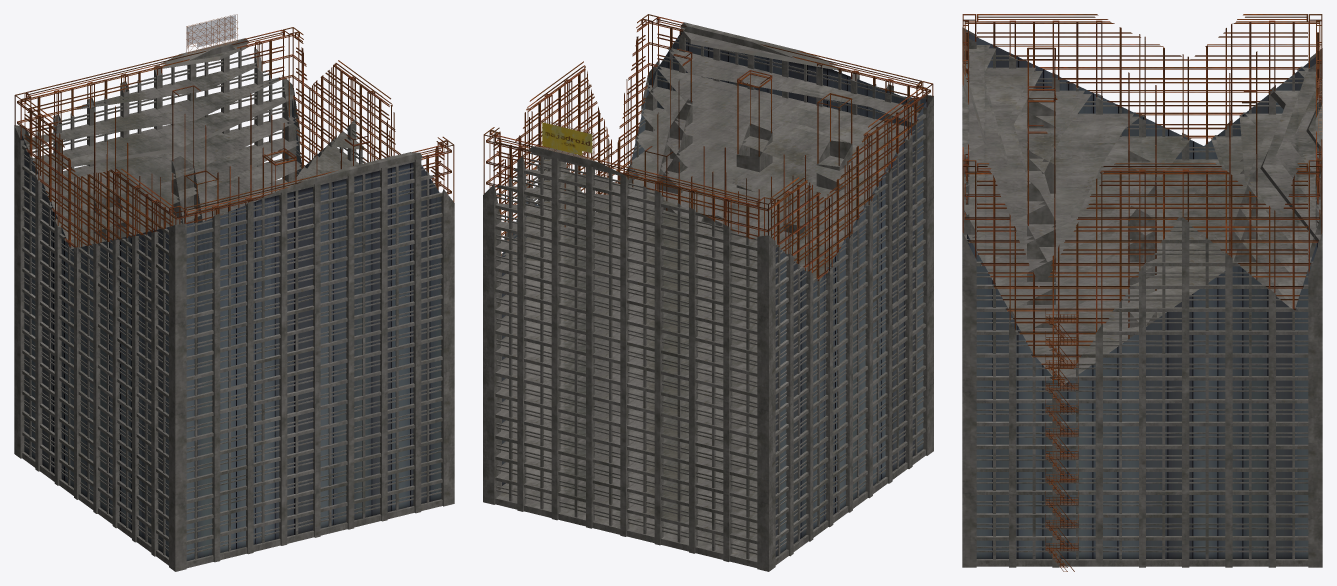
File: tower_majadroid_03.glb
3 renders of one model, left to right at view 1: azimuth 30°, elevation 25°; view 2: azimuth 150°, elevation 25°; view 3: azimuth 270°, elevation 25°, orthographic. The views are drawn at different scales.
Parts seen in each view (by area): view 1: tower_majadroid_03; view 2: tower_majadroid_03; view 3: tower_majadroid_03.
Part boxes in pixels (x1=…): tower_majadroid_03: x1=14, y1=14, x2=454, y2=571; tower_majadroid_03: x1=483, y1=14, x2=933, y2=571; tower_majadroid_03: x1=962, y1=14, x2=1322, y2=571.
Size of the model in its own units: 52.07 by 66.07 by 50.
Materials: 4 (4 with a texture image).
